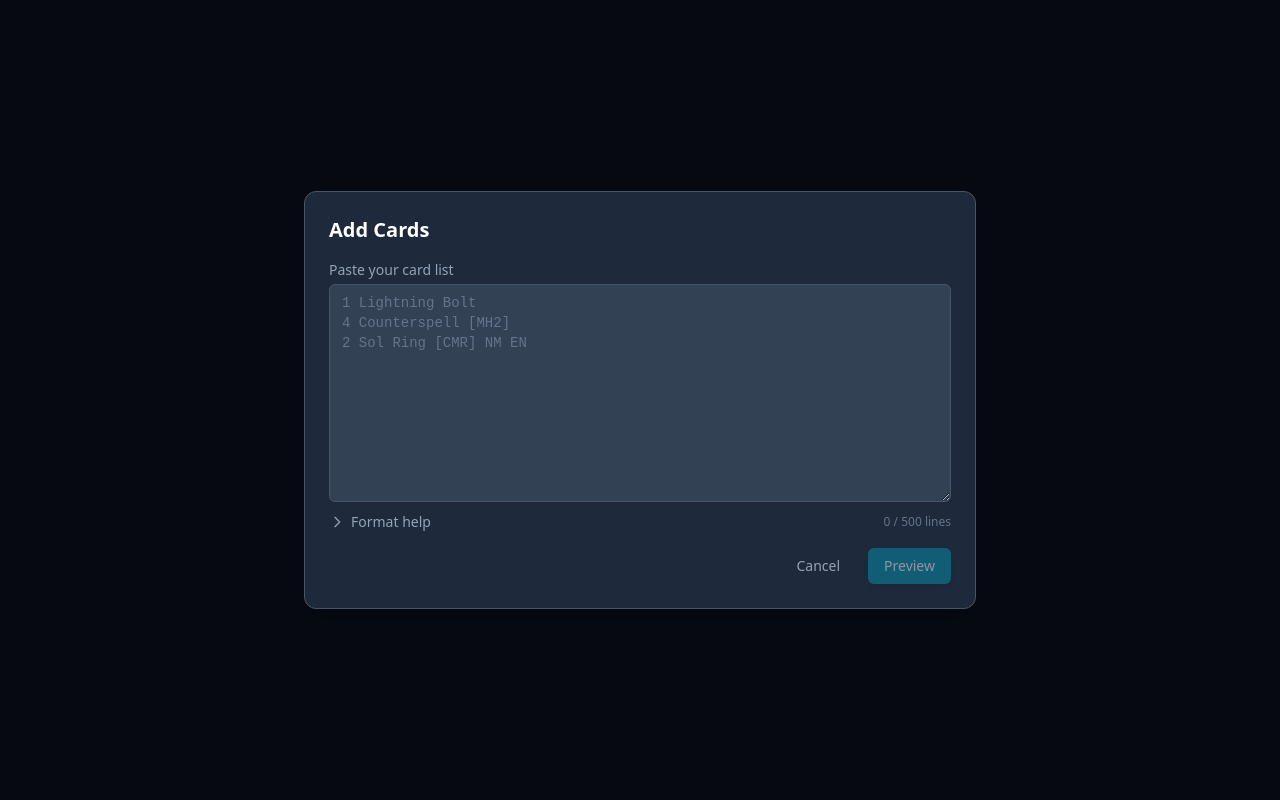
Scenario: BatchAddModal › remove button removes row from preview
Type "2 Lightning Bolt" into the text box with test id "batch-textarea" at point(640, 393), box 329,284 -> 951,502
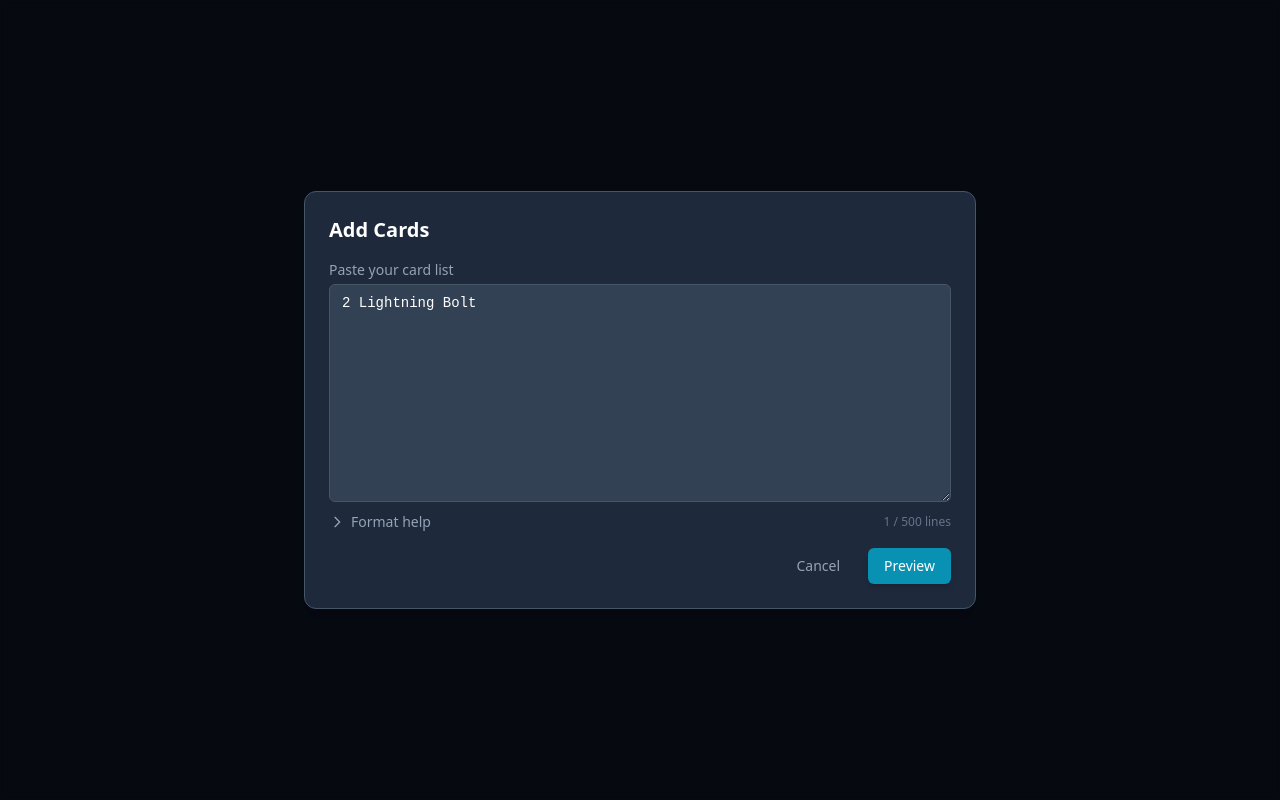
Click the button with test id "batch-preview-btn" at point(910, 566), box 868,548 -> 951,584
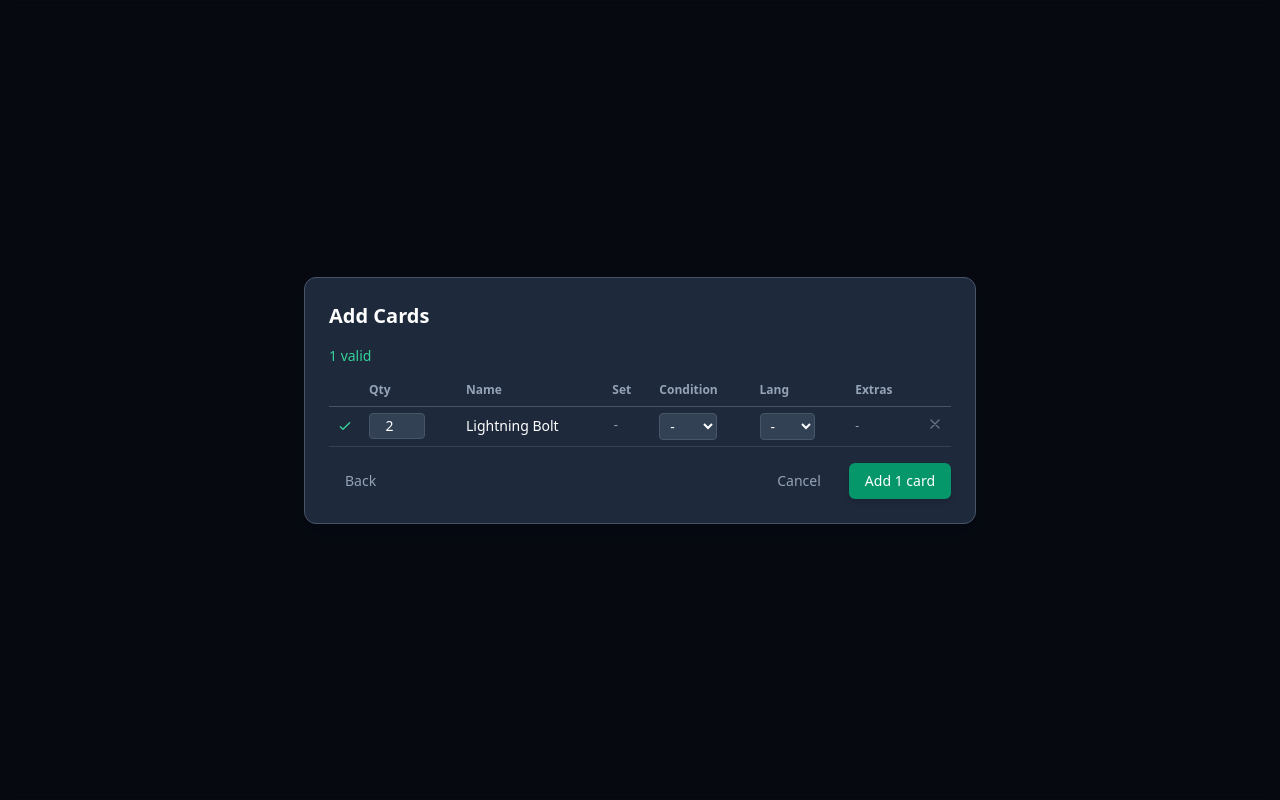
Now the row with test id "preview-row-1" is shown, box 329,406 -> 951,446
Click the button with test id "remove-row-1" at point(935, 424), box 927,416 -> 943,432
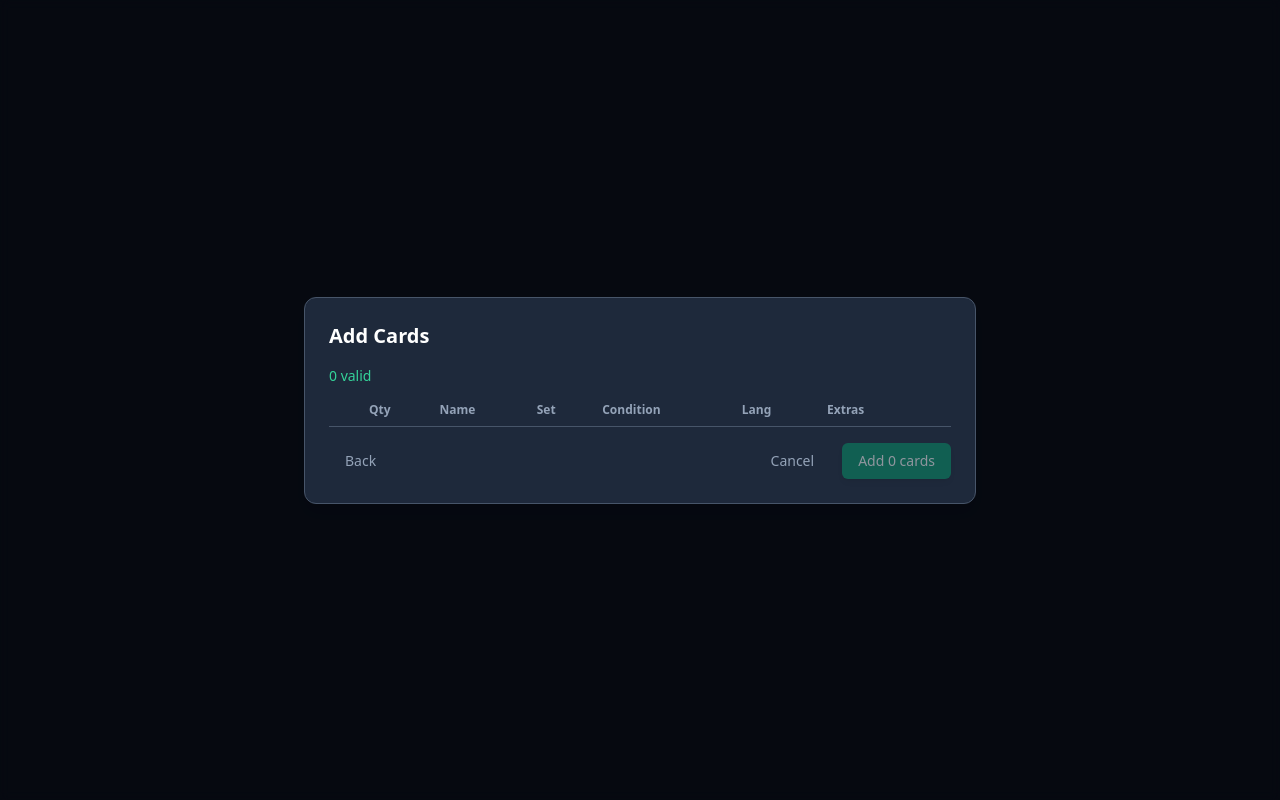
Now the row with test id "preview-row-1" is gone
